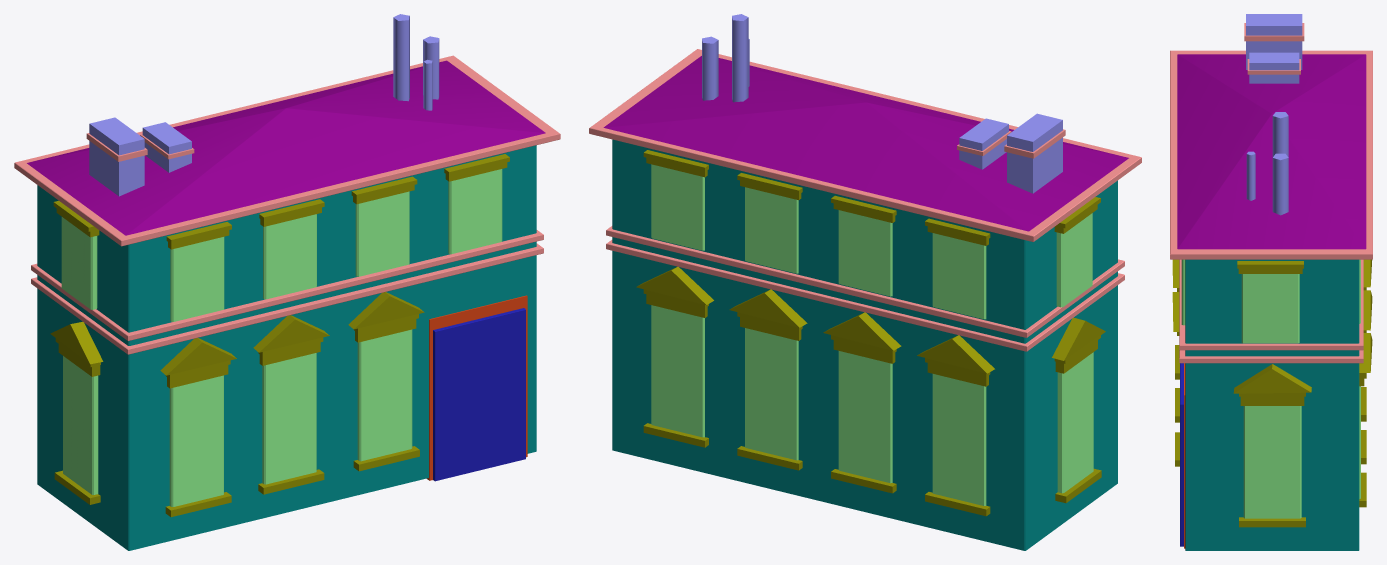
File: sklep02.FBX
3 renders of one model, left to right at view 1: azimuth 30°, elevation 25°; view 2: azimuth 150°, elevation 25°; view 3: azimuth 270°, elevation 25°, orthographic. The views are drawn at different scales.
Visible parts, largest first — view 1: Box001, Box148, Box057, Box044, Box133, Box034, Cylinder003, Box134; view 2: Box001, Box148, Box057, Box044, Box034, Cylinder003; view 3: Box148, Box001, Box057, Box044, Box034, Cylinder003, Box133, Box134.
Boxes of the visible parts, box(x1,y1,x2,y2) form: Box001: box(37, 145, 536, 550); Box148: box(14, 55, 560, 354); Box057: box(61, 169, 502, 506); Box044: box(50, 154, 509, 517); Box133: box(433, 308, 525, 481); Box034: box(86, 117, 194, 196); Cylinder003: box(393, 14, 439, 110); Box134: box(426, 295, 527, 480); Box001: box(612, 139, 1117, 550); Box148: box(589, 49, 1141, 351); Box057: box(651, 164, 1093, 505); Box044: box(636, 150, 1105, 516); Box034: box(957, 113, 1065, 193); Cylinder003: box(702, 14, 749, 102); Box148: box(1170, 50, 1372, 363); Box001: box(1185, 259, 1359, 550); Box057: box(1181, 259, 1360, 518); Box044: box(1172, 259, 1372, 527); Box034: box(1244, 14, 1304, 83); Cylinder003: box(1246, 112, 1288, 215); Box133: box(1180, 363, 1183, 546); Box134: box(1184, 363, 1185, 548).
Size of the model in its own units: 843 by 771 by 355.
